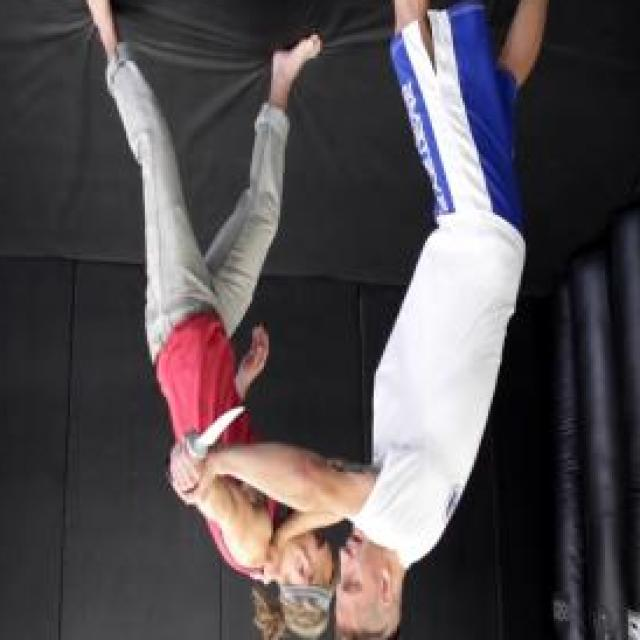knife: (164, 397, 252, 486)
